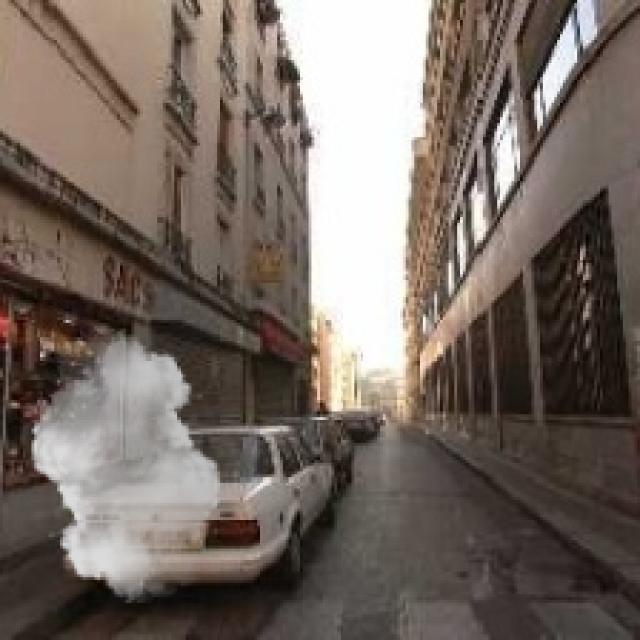Smoke: (22, 328, 228, 603)
